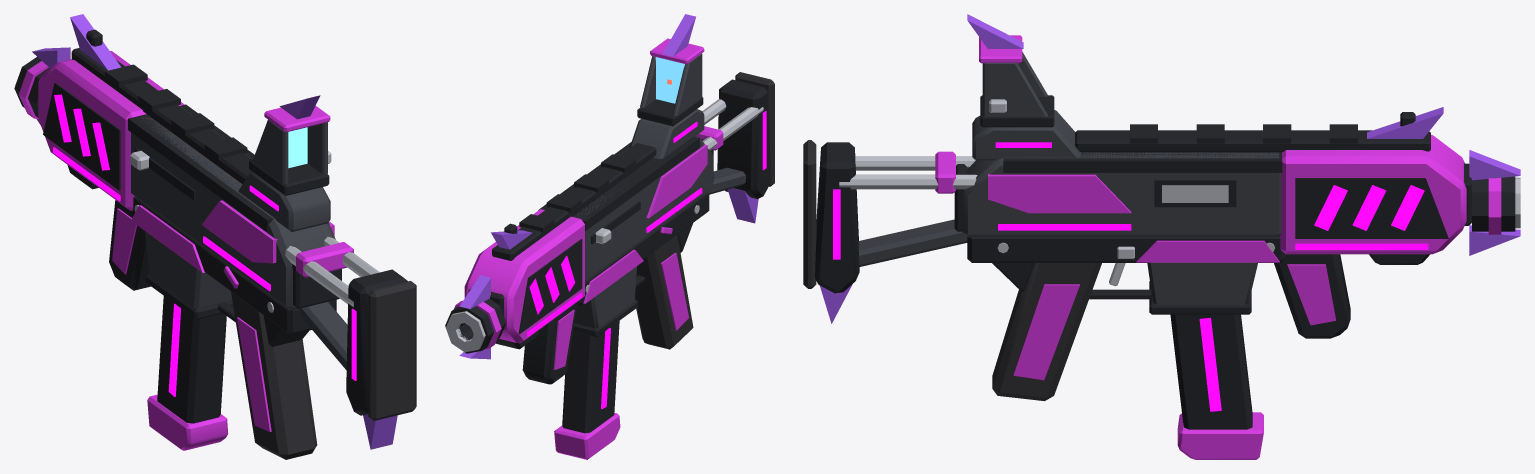
Rendered from Specter9.glb.
3 views of the same model, side by side, from view 1: azimuth 30°, elevation 25°; view 2: azimuth 150°, elevation 25°; view 3: azimuth 270°, elevation 25° (orthographic). The views are drawn at different scales.
Visible parts, largest first — view 1: Body, Grip, ButtPad, Mag, Shroud, Brow, ShroudCore, StockButt, Rail, Magwell, Lower, Riser (+36 smaller); view 2: Shroud, Mag, StockButt, Body, Grip, Brow, Rail, ShroudCore, Foregrip, Magwell, Riser, Armor (+29 smaller); view 3: Body, Shroud, Mag, ShroudCore, Grip, Rail, StockButt, Lower, Brow, Armor, Magwell, GripInlay (+28 smaller).
Part boxes in pixels (box(x1,y1,x2,y2)): Body: box(131, 107, 335, 310); Grip: box(231, 291, 317, 459); ButtPad: box(368, 281, 416, 420); Mag: box(157, 296, 226, 423); Shroud: box(38, 51, 184, 210); Brow: box(128, 104, 274, 231); ShroudCore: box(43, 82, 120, 190); StockButt: box(346, 269, 407, 415); Rail: box(71, 48, 250, 183); Magwell: box(145, 231, 232, 308); Lower: box(133, 196, 336, 334); Riser: box(238, 171, 330, 231); Shroud: box(464, 209, 584, 343); Mag: box(562, 321, 619, 433); StockButt: box(717, 79, 770, 198); Body: box(574, 136, 713, 281); Grip: box(635, 235, 693, 349); Brow: box(538, 136, 699, 230); Rail: box(492, 143, 656, 260); ShroudCore: box(518, 239, 582, 334); Foregrip: box(522, 303, 576, 384); Magwell: box(574, 266, 636, 328); Riser: box(629, 109, 704, 158); Armor: box(646, 144, 707, 218); Body: box(962, 152, 1281, 237); Shroud: box(1279, 134, 1466, 254); Mag: box(1170, 314, 1252, 429); ShroudCore: box(1295, 178, 1448, 238); Grip: box(992, 263, 1101, 401); Rail: box(1075, 130, 1430, 152); StockButt: box(815, 142, 859, 293); Lower: box(967, 237, 1284, 262); Brow: box(1003, 152, 1282, 172); Armor: box(988, 174, 1131, 213); Magwell: box(1147, 262, 1257, 304); GripInlay: box(1013, 284, 1079, 380).
Bounding box in the file's own units: 0.325 × 1.87 × 2.8.
